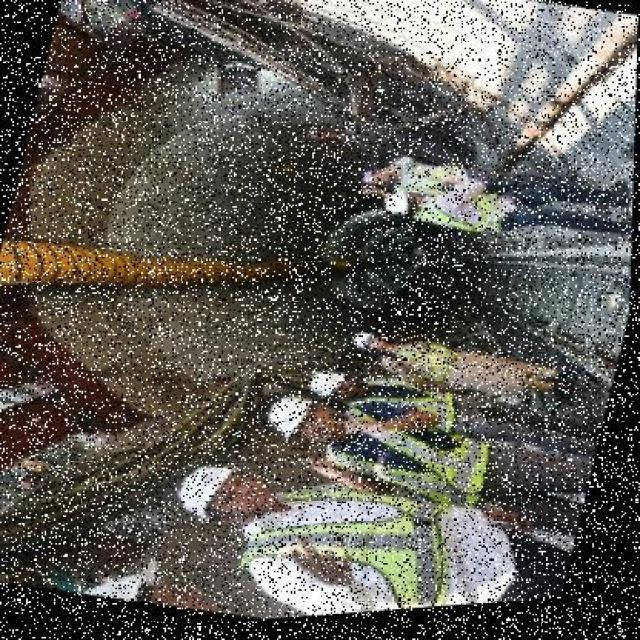helmet: (168, 452, 253, 536), (258, 389, 322, 447), (306, 365, 353, 407), (345, 326, 383, 359), (383, 191, 413, 222)
